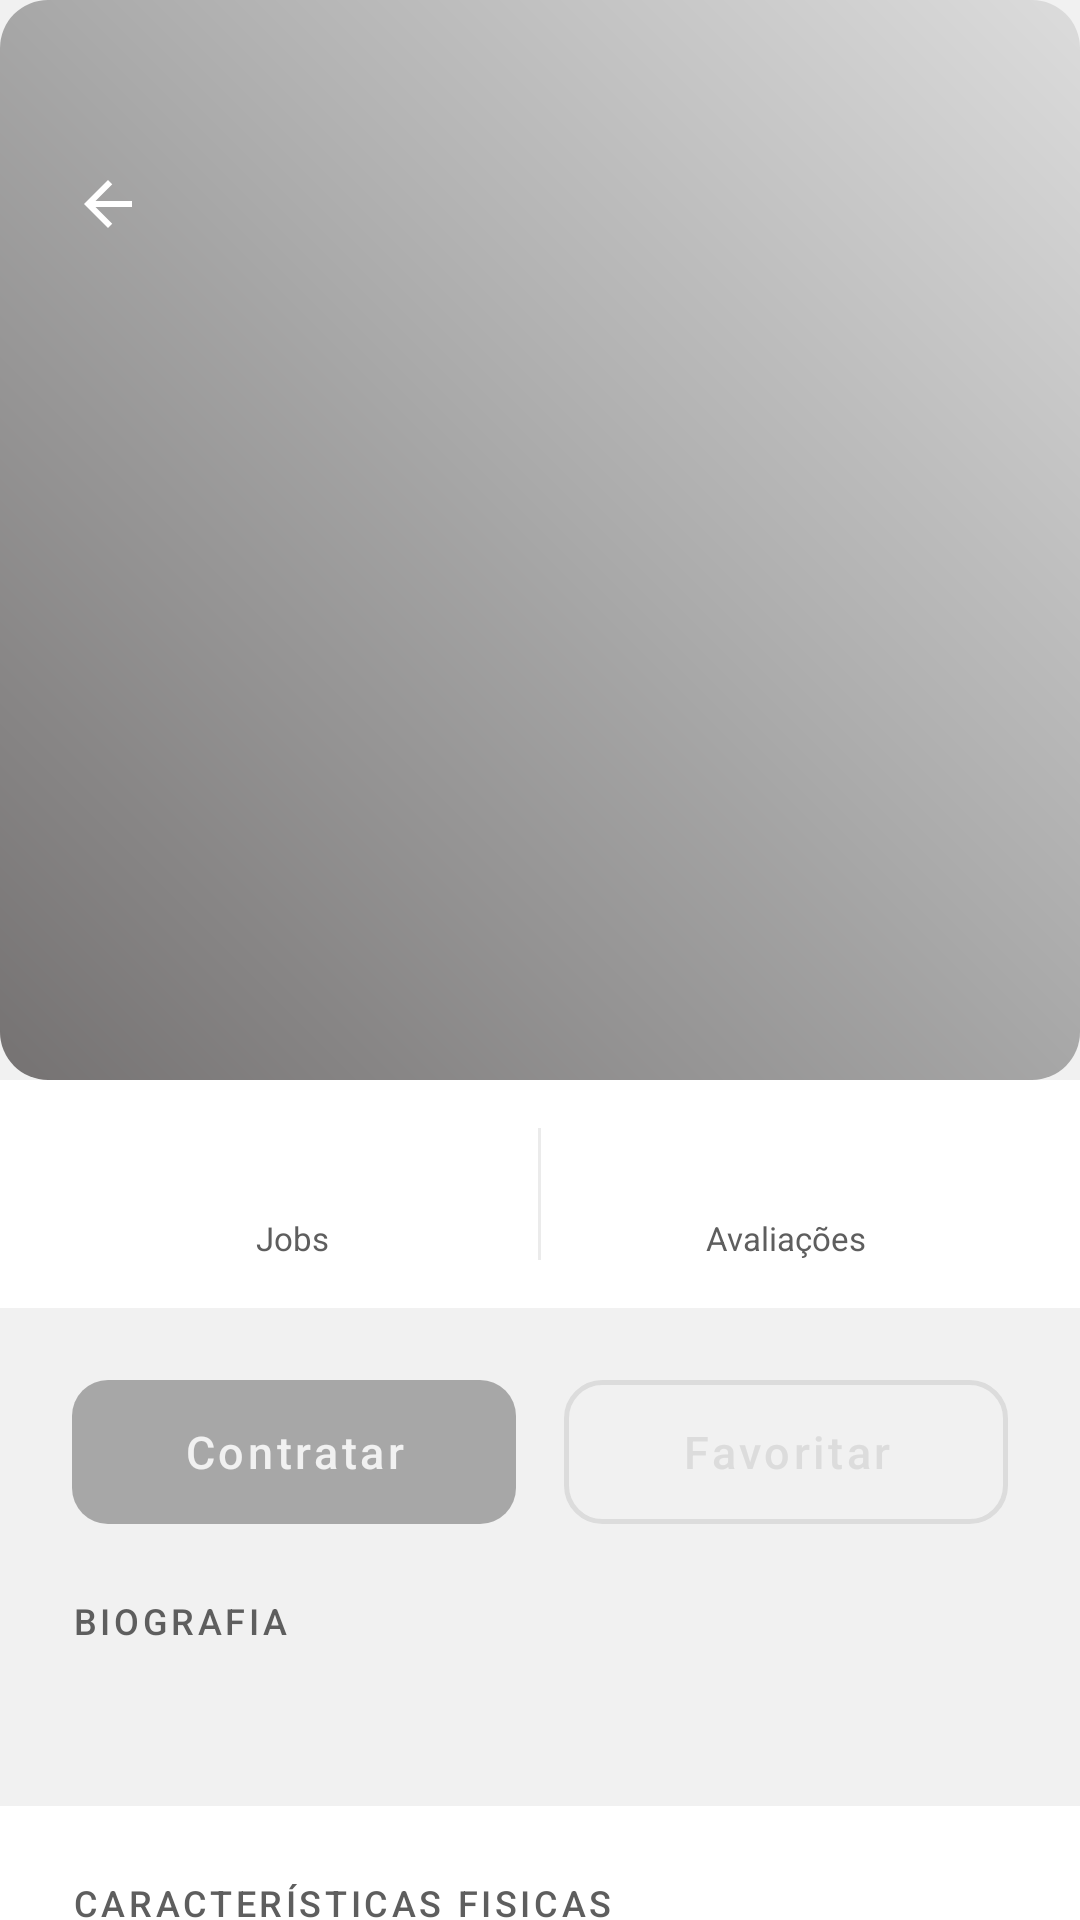

Where to tap for icons on this 1080px x 1920px app screen, as (x,y):
Back: (108,204)
